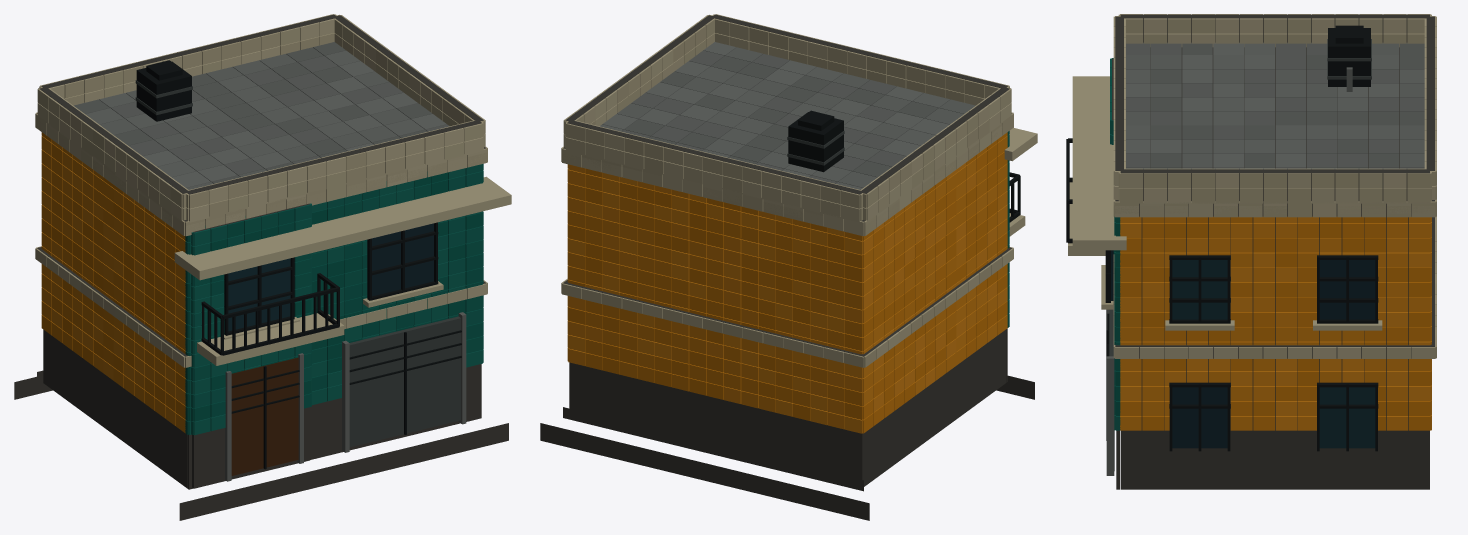
Rendered from SM_StreetFrontage_035.fbx.
3 renders of one model, left to right at view 1: azimuth 30°, elevation 25°; view 2: azimuth 150°, elevation 25°; view 3: azimuth 270°, elevation 25°, orthographic. The views are drawn at different scales.
Visible parts, largest first — view 1: SM_StreetFrontage_035; view 2: SM_StreetFrontage_035; view 3: SM_StreetFrontage_035.
Part boxes in pixels (<box>): SM_StreetFrontage_035: <box>14,14,511,520</box>; SM_StreetFrontage_035: <box>540,14,1037,520</box>; SM_StreetFrontage_035: <box>1066,14,1436,489</box>.
Size of the model in its own units: 7.92 by 7.49 by 7.88.
